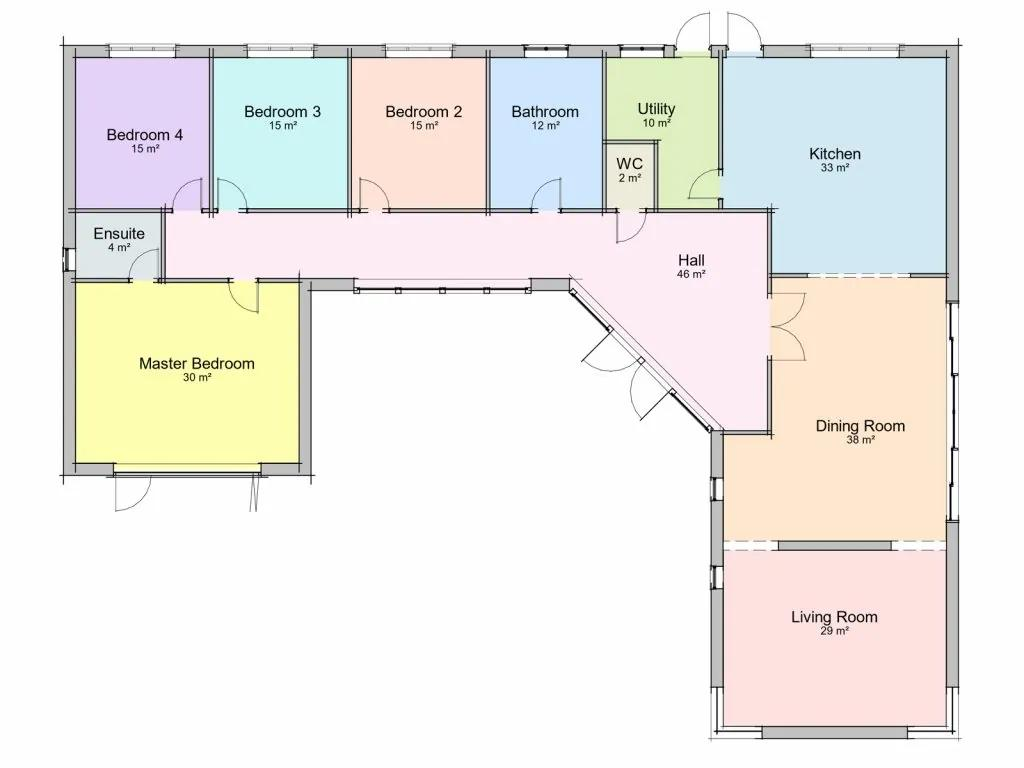room: (163, 210, 771, 433), (718, 273, 953, 541), (722, 47, 952, 275), (69, 281, 306, 469), (717, 546, 953, 732), (71, 49, 210, 211), (213, 47, 349, 211), (350, 48, 486, 211), (604, 48, 721, 210), (488, 48, 604, 211), (71, 211, 163, 280)
